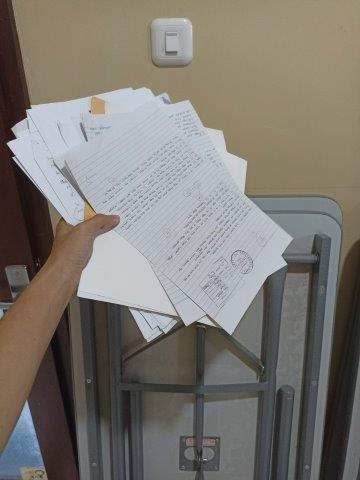kertas: (7, 87, 293, 341)
